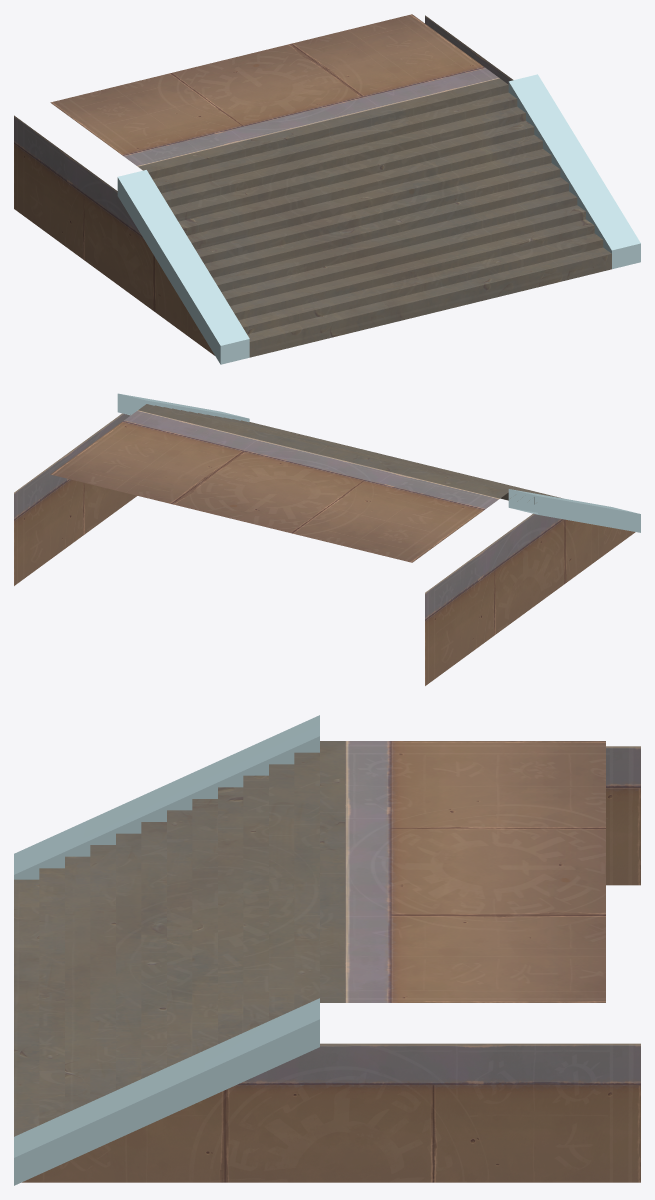
File: mod_AbyssStair.fbx
3 views of the same model, one above another, from view 1: azimuth 30°, elevation 25°; view 2: azimuth 150°, elevation 25°; view 3: azimuth 270°, elevation 25° (orthographic). The views are drawn at different scales.
Visible parts, largest first — view 1: mod_AbyssStair; view 2: mod_AbyssStair; view 3: mod_AbyssStair.
Boxes of the visible parts, x1,y1,x2,y2 form: mod_AbyssStair: [14, 14, 640, 364]; mod_AbyssStair: [14, 393, 640, 685]; mod_AbyssStair: [14, 715, 640, 1185].
Size of what is drawn, in the model's own units: 1455 by 372 by 1268.
